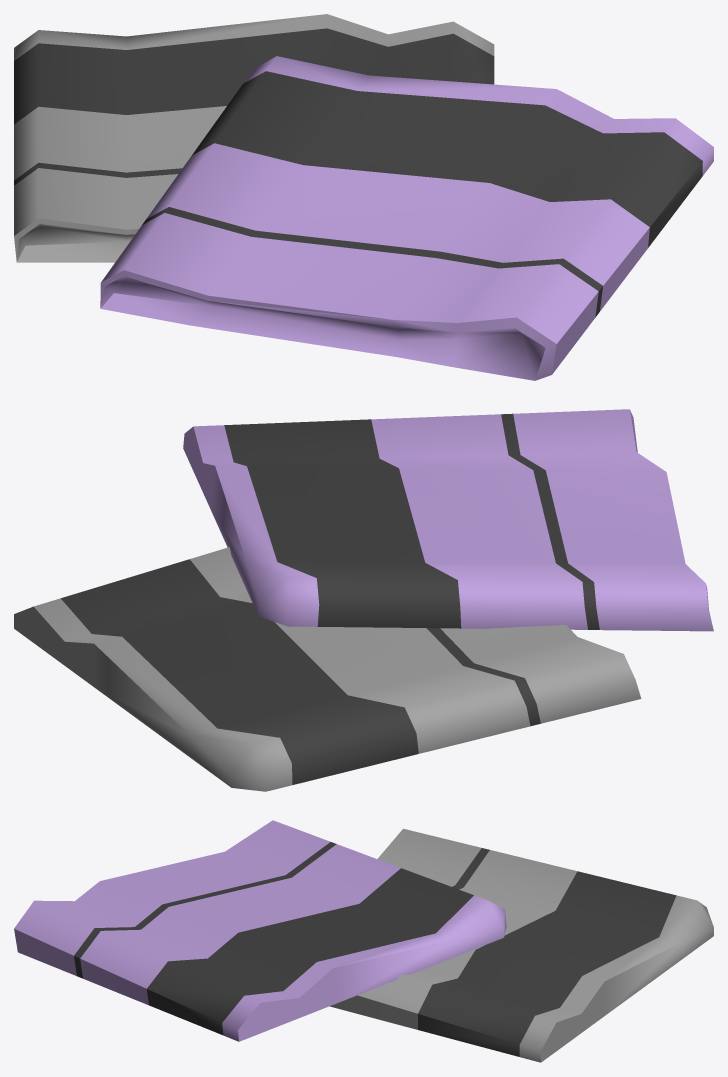
Rendered from SM_clothes_002.FBX.
3 renders of one model, top to bottom at view 1: azimuth 30°, elevation 25°; view 2: azimuth 150°, elevation 25°; view 3: azimuth 270°, elevation 25°, orthographic. The views are drawn at different scales.
Parts seen in each view (by area): view 1: SM_clothes_002; view 2: SM_clothes_002; view 3: SM_clothes_002.
Boxes of the visible parts, box(x1,y1,x2,y2) form: SM_clothes_002: box(14, 14, 713, 380); SM_clothes_002: box(14, 409, 713, 791); SM_clothes_002: box(14, 820, 713, 1062).
Bounding box in the file's own units: 59.52 × 80.55 × 8.7.
